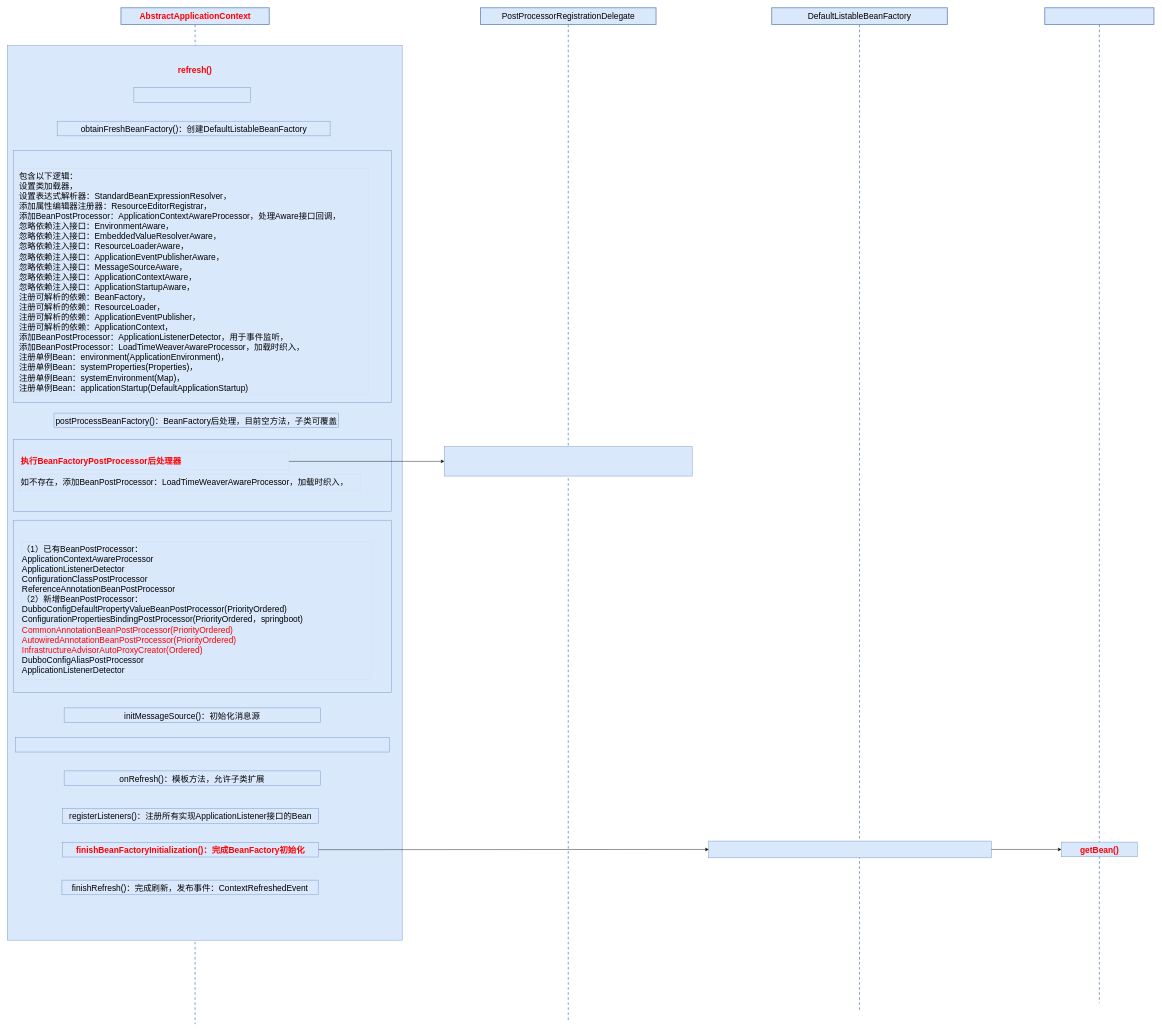
Image size: 1162x1032. Some labels were removed from this diagram. Each missing label, with the box of its shape:
AbstractBeanFactory: (1044, 7, 1154, 1003)
initApplicationEventMulticaster()：初始化应用事件广播器，SimpleApplicationEventMulticaster: (15, 737, 390, 752)
invokeBeanFactoryPostProcessors()：: (13, 439, 392, 512)
invokeBeanFactoryPostProcessors()： 调用BeanFactoryPostProcessor，允许修改bean定义: (444, 446, 692, 476)
preInstantiateSingletons ()：实例化所有单例Bean: (708, 841, 991, 858)
prepareBeanFactory()：配置 BeanFactory: (13, 150, 392, 403)
prepareRefresh()：准备刷新: (133, 87, 251, 102)
registerBeanPostProcessors()：注册BeanPostProcessor后处理器， 用于后续Bean实例的增强: (13, 520, 392, 692)
